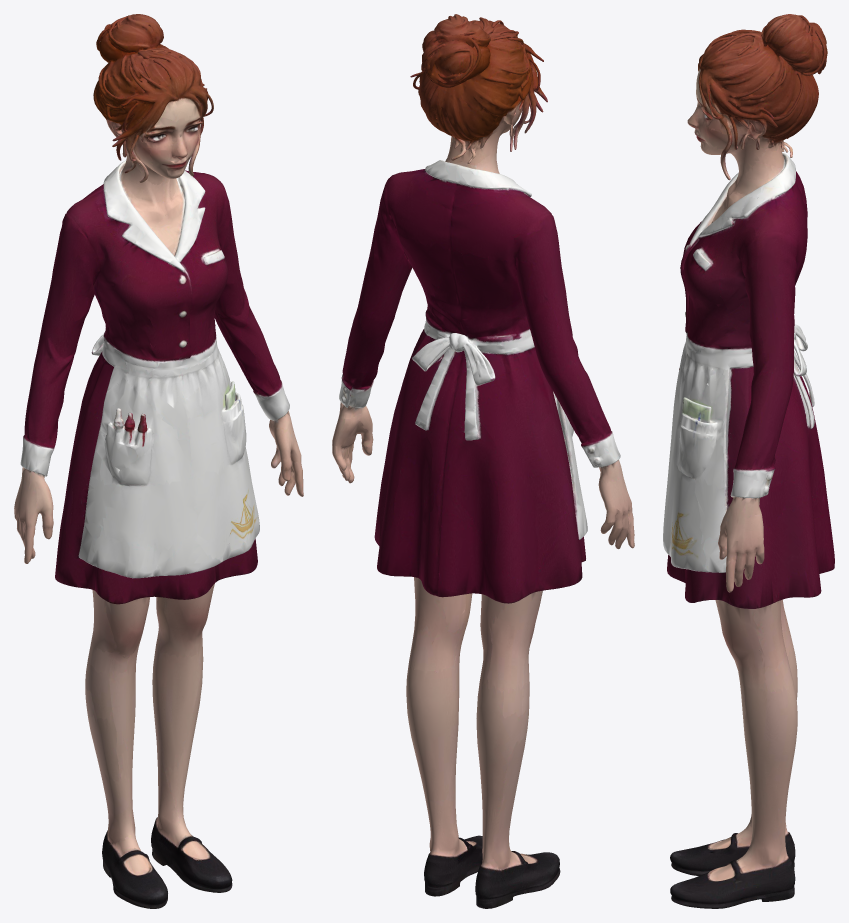
The model's file is nicola.glb.
3 renders of one model, left to right at view 1: azimuth 30°, elevation 25°; view 2: azimuth 150°, elevation 25°; view 3: azimuth 270°, elevation 25°, orthographic. The views are drawn at different scales.
Visible parts, largest first — view 1: Mesh_0; view 2: Mesh_0; view 3: Mesh_0.
Boxes of the visible parts, x1,y1,x2,y2 form: Mesh_0: (14, 14, 303, 908); Mesh_0: (332, 14, 634, 908); Mesh_0: (663, 14, 834, 908).
Size of the model in its own units: 0.6578 by 1.9 by 0.3413.
1 material, 1 textured.
